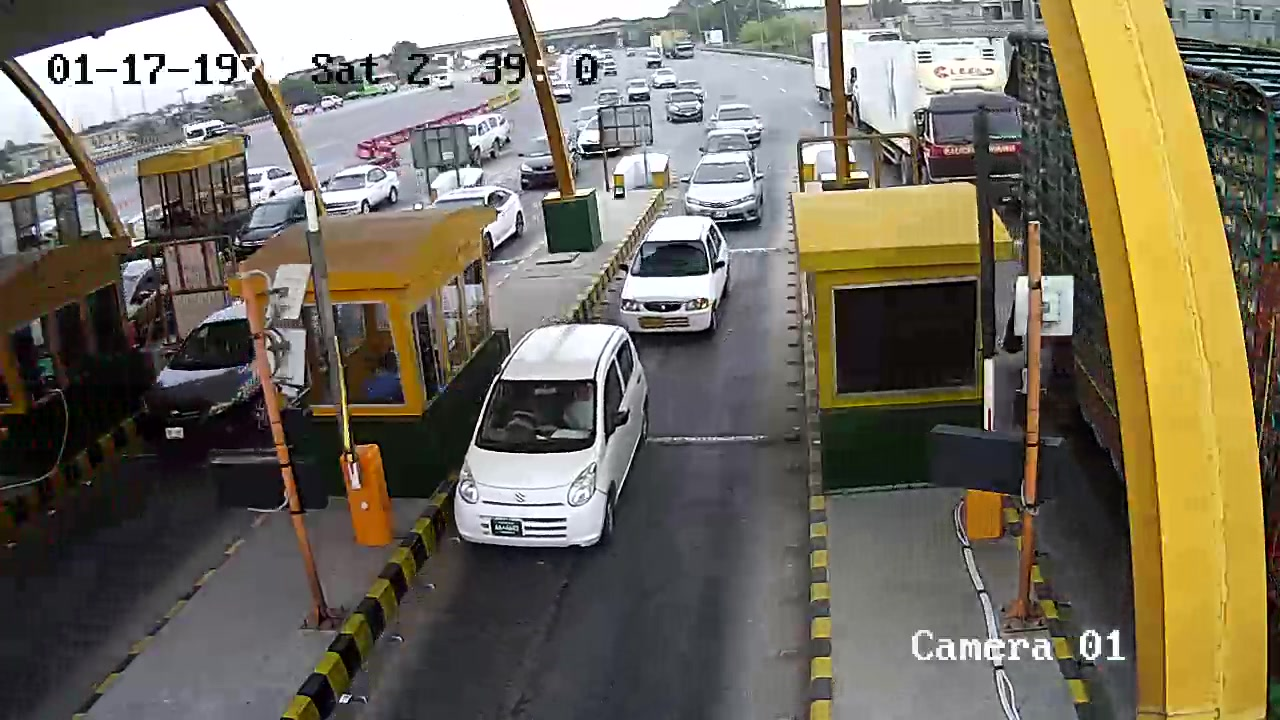F1: (443, 322, 654, 557)
